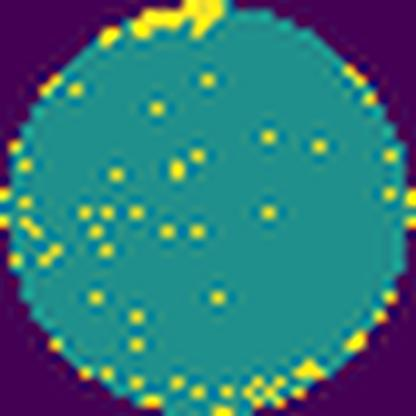Edge-Loc: (126, 0, 227, 47)
